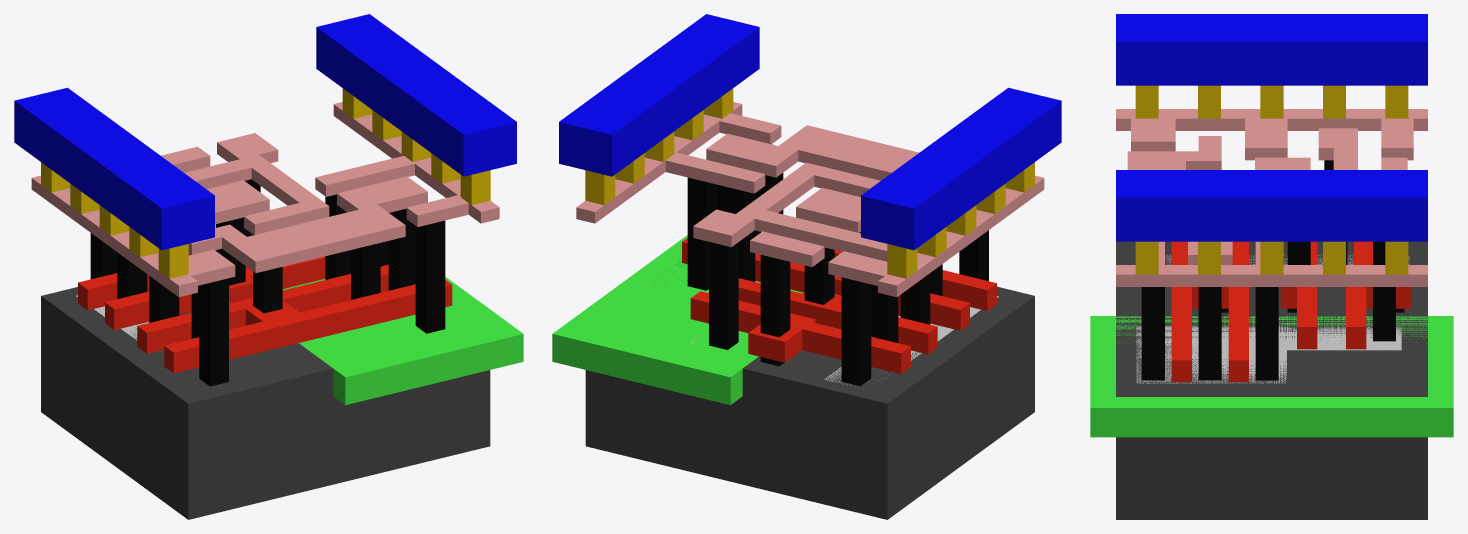
The model's file is sky130_fd_sc_hd__or2_2.obj.
The picture shows the model from 3 angles, left to right: view 1: azimuth 30°, elevation 25°; view 2: azimuth 150°, elevation 25°; view 3: azimuth 270°, elevation 25°; orthographic projection. The views are drawn at different scales.
Parts seen in each view (by area): view 1: subs, metal1, li, licon, poly, nwell, mcon; view 2: subs, metal1, li, licon, nwell, poly, mcon; view 3: metal1, subs, nwell, li, poly, licon, mcon, tap.
Boxes of the visible parts, box(x1,y1,x2,y2) form: subs: box(41, 282, 490, 519); metal1: box(14, 14, 516, 250); li: box(31, 102, 499, 297); licon: box(90, 179, 445, 386); poly: box(78, 254, 452, 373); nwell: box(282, 277, 523, 405); mcon: box(41, 88, 490, 278); subs: box(585, 261, 1034, 519); metal1: box(559, 14, 1061, 250); li: box(576, 102, 1044, 297); licon: box(687, 144, 988, 386); nwell: box(552, 235, 802, 405); poly: box(682, 238, 996, 373); mcon: box(585, 88, 1034, 278); metal1: box(1116, 14, 1427, 241); subs: box(1116, 241, 1427, 519); nwell: box(1090, 316, 1453, 437); li: box(1116, 109, 1427, 286); poly: box(1171, 241, 1410, 382); licon: box(1141, 160, 1404, 380); mcon: box(1135, 85, 1408, 274); tap: box(1136, 326, 1401, 383).
Bounding box in the file's own units: 3.2 × 2.74 × 2.68.
